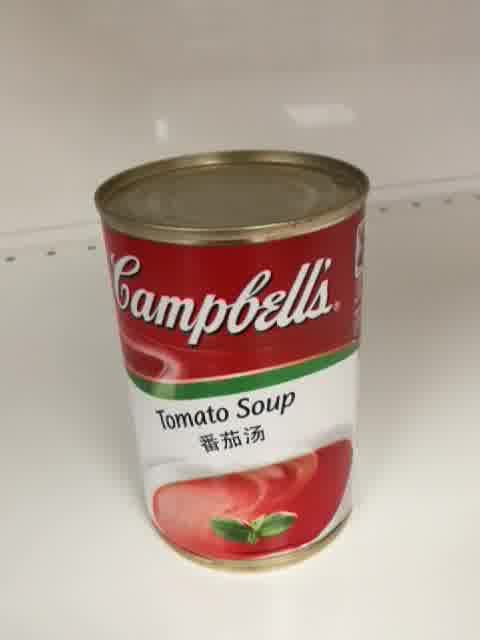tomatosoup: (92, 146, 369, 575)
